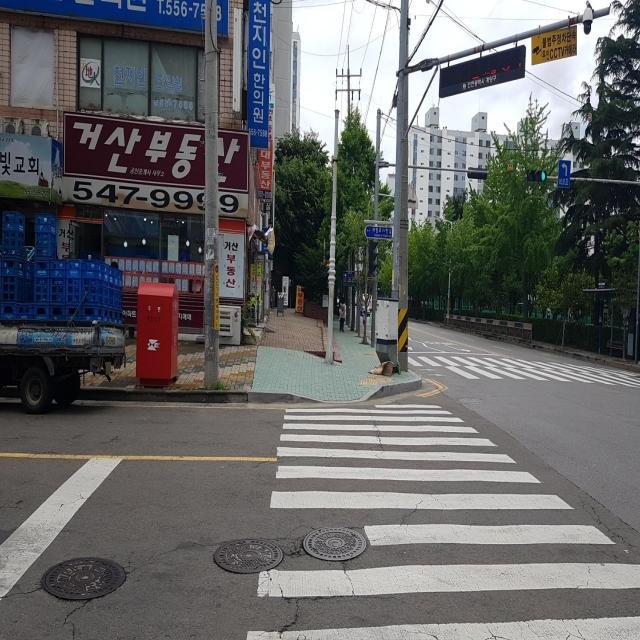횡단보도: (245, 402, 640, 640), (402, 355, 640, 393)
